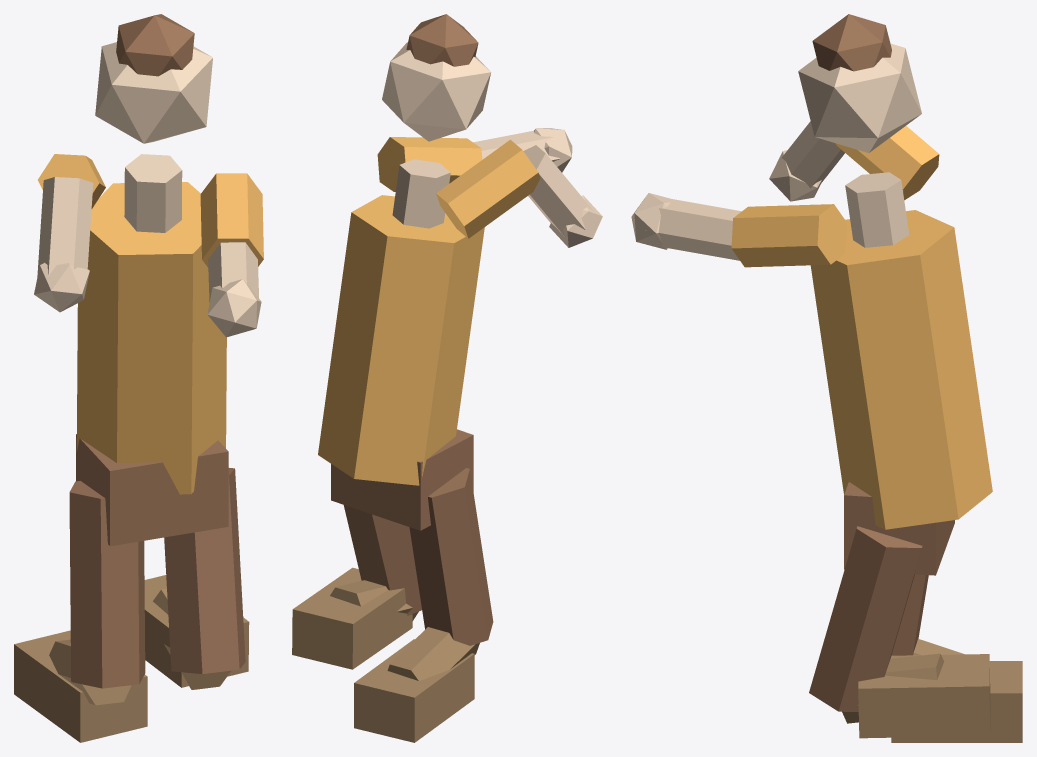
File: pose_attack_1_17.glb
3 views of the same model, side by side, from view 1: azimuth 30°, elevation 25°; view 2: azimuth 150°, elevation 25°; view 3: azimuth 270°, elevation 25° (orthographic). The views are drawn at different scales.
Visible parts, largest first — view 1: pose; view 2: pose; view 3: pose.
Boxes of the visible parts, x1,y1,x2,y2 form: pose: (14, 14, 263, 742); pose: (292, 14, 602, 742); pose: (631, 14, 1022, 742).
Bounding box in the file's own units: 0.5026 × 1.46 × 0.7151.
